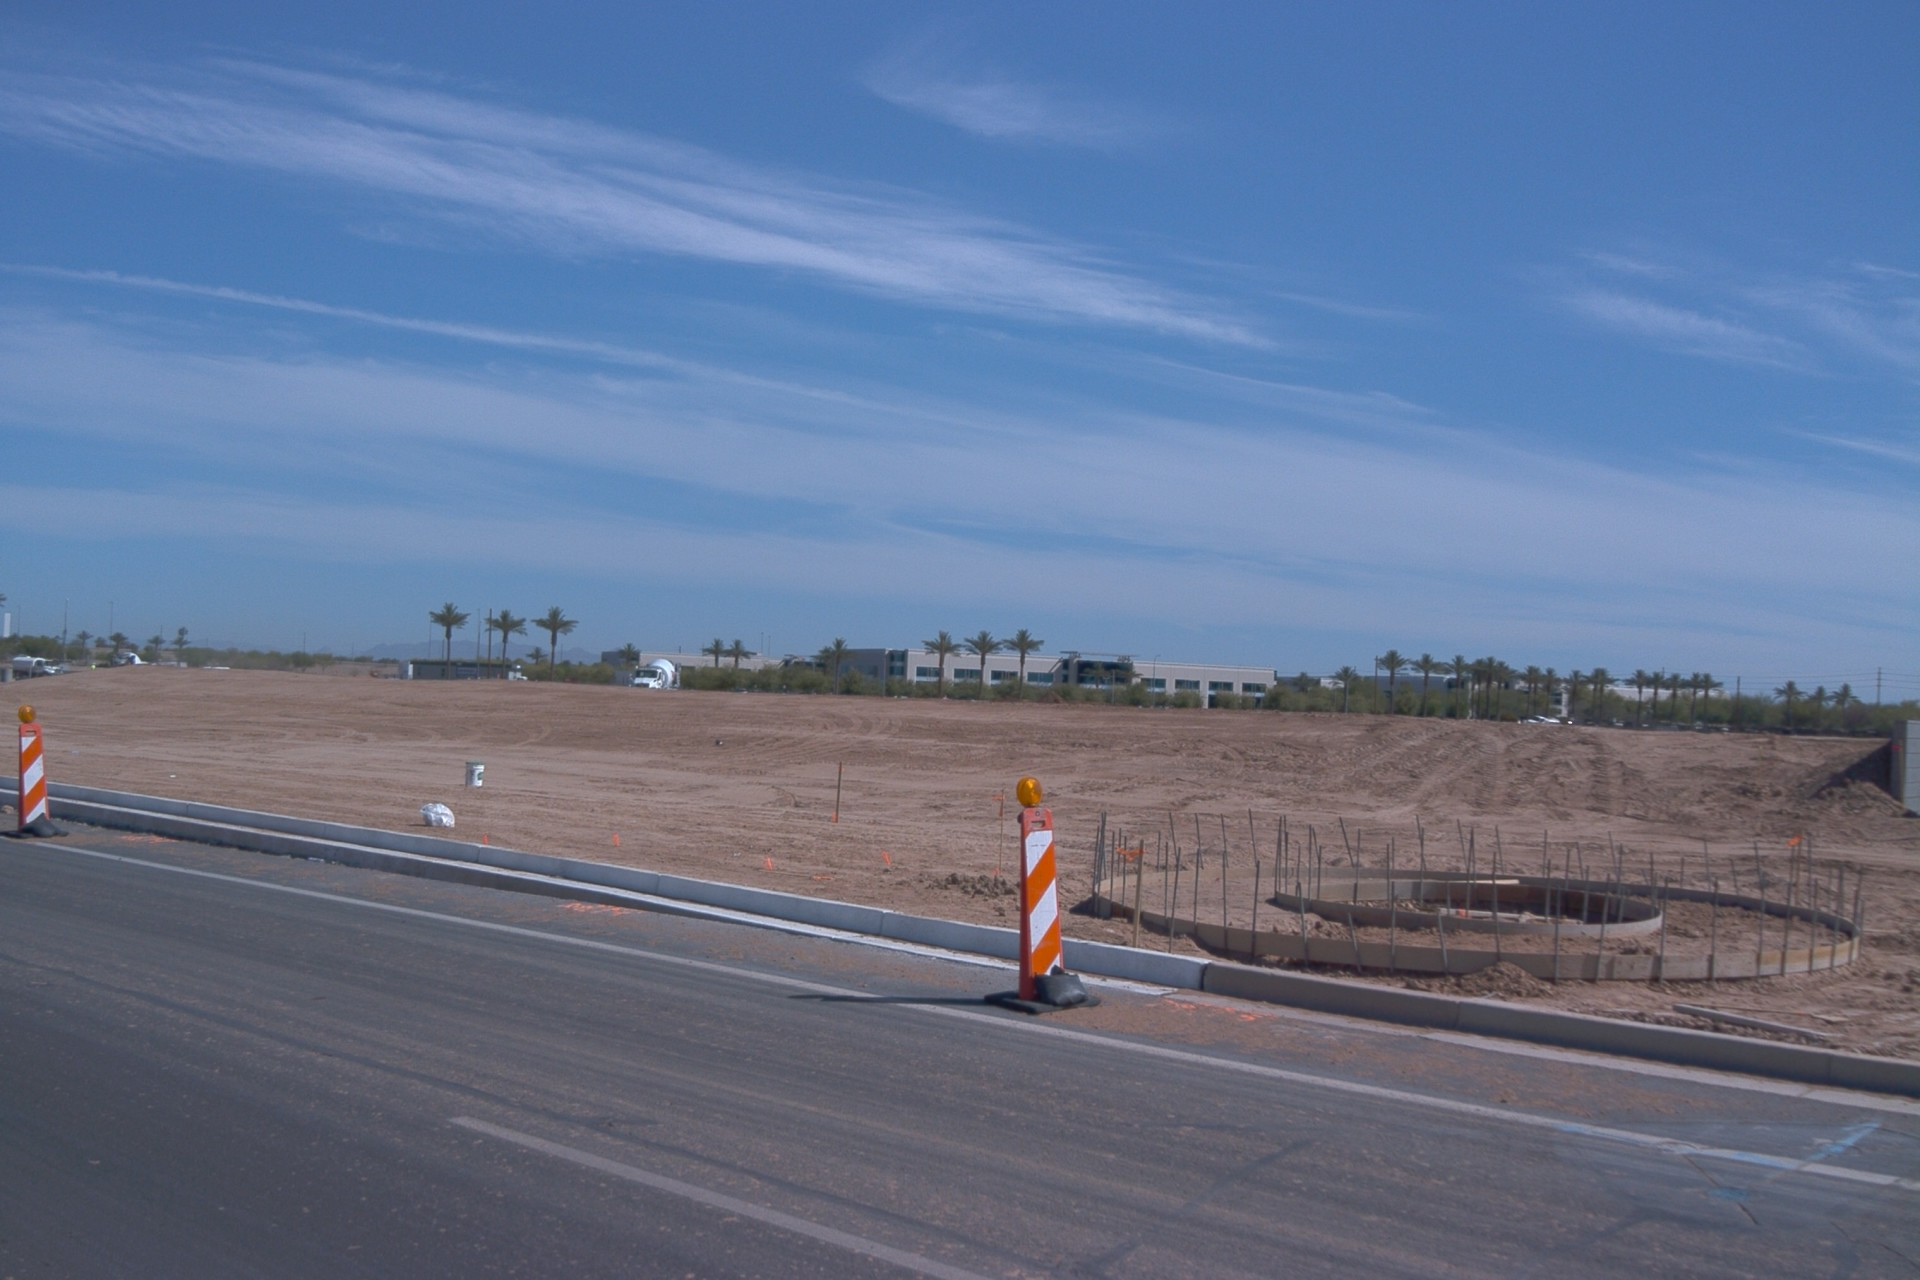TYPE_VEHICLE: (633, 659, 686, 691), (633, 659, 686, 691), (633, 659, 686, 691), (633, 659, 686, 691), (14, 654, 67, 679), (14, 654, 67, 679), (14, 654, 67, 679), (14, 654, 67, 679), (109, 649, 151, 666), (109, 649, 151, 666), (109, 649, 151, 666), (109, 649, 151, 666), (200, 667, 231, 671), (200, 667, 231, 671), (200, 667, 231, 671), (200, 667, 231, 671)
